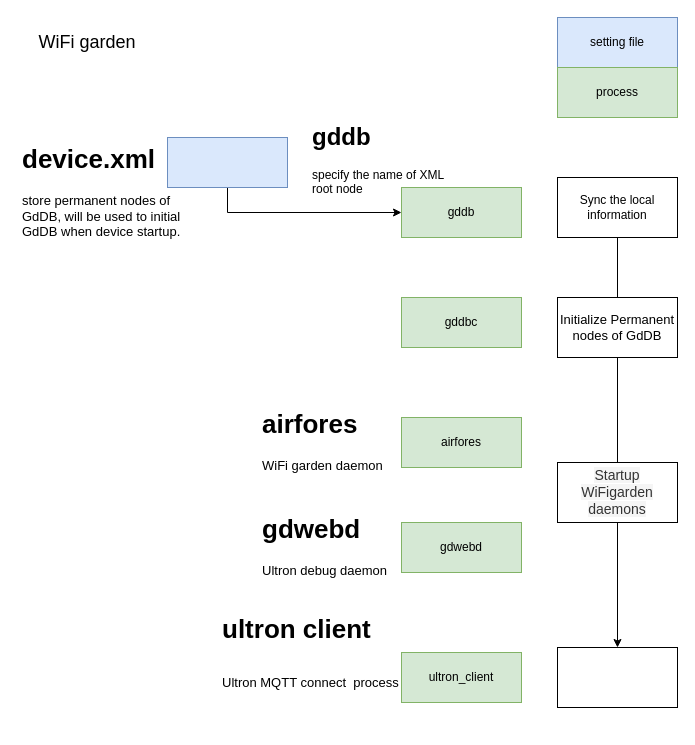
The diagram is 695 pixels wide and 745 high, and some of its shapes have lost their labels. The centre of each missing label's shape, as x and y in pixels:
"Connect Ultron Cloud" goes at [617,677].
"device.xml" goes at [227,162].
